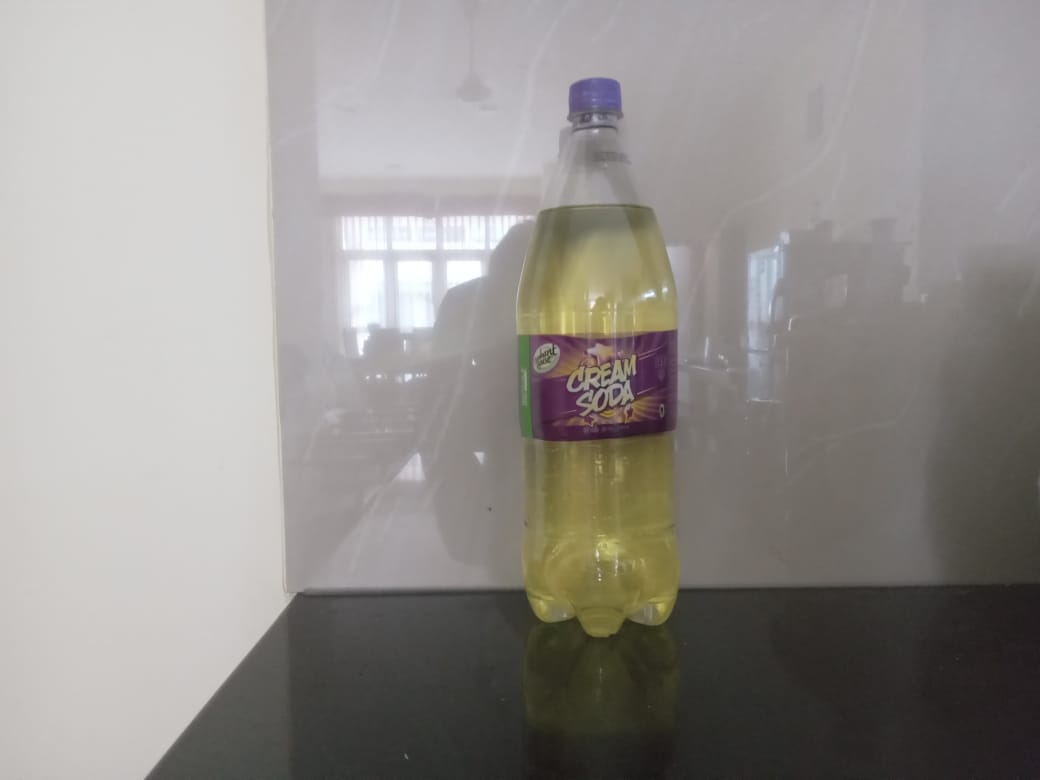L: (510, 74, 691, 647)
